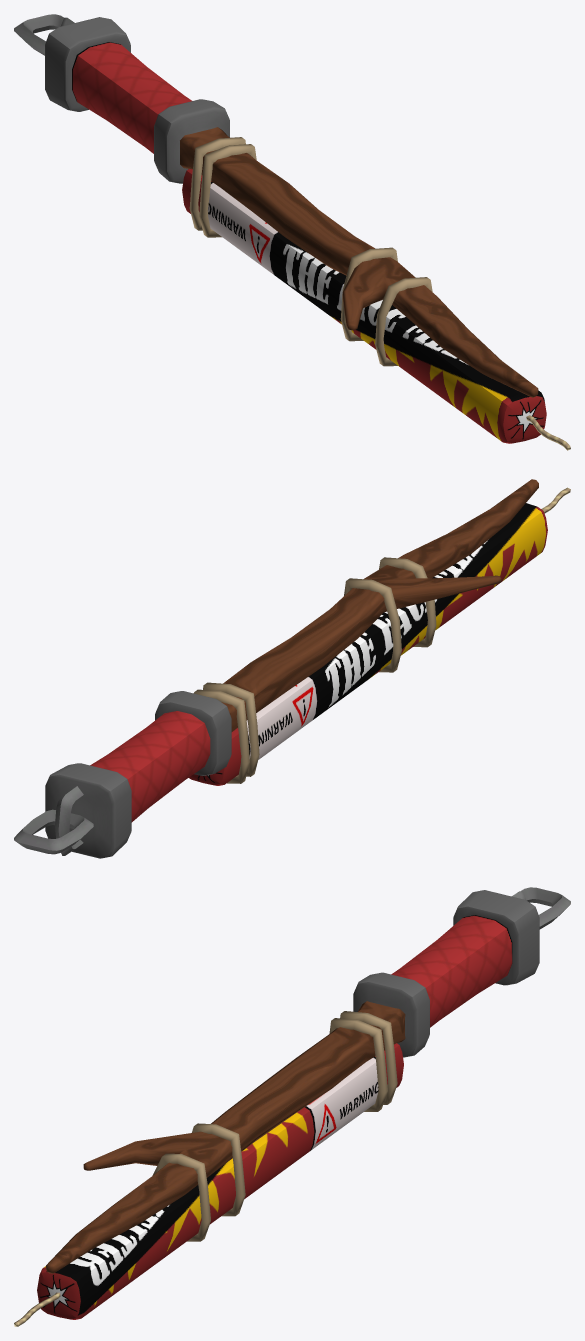
Rendered from firework.glb.
The picture shows the model from 3 angles, top to bottom: view 1: azimuth 30°, elevation 25°; view 2: azimuth 150°, elevation 25°; view 3: azimuth 330°, elevation 25°; orthographic projection.
Parts seen in each view (by area): view 1: Quest_Wand_Fireworks; view 2: Quest_Wand_Fireworks; view 3: Quest_Wand_Fireworks.
Boxes of the visible parts, bbox=[...] form: Quest_Wand_Fireworks: bbox=[14, 14, 570, 450]; Quest_Wand_Fireworks: bbox=[14, 479, 570, 858]; Quest_Wand_Fireworks: bbox=[14, 887, 570, 1326].
Size of the model in its own units: 0.0804 by 0.0738 by 0.6768.
1 material, 1 textured.
